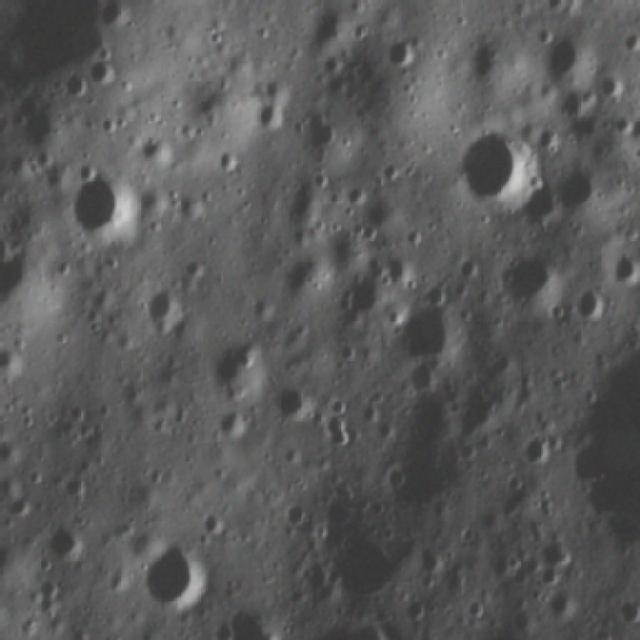crater: (454, 117, 549, 223), (62, 165, 143, 249), (134, 535, 214, 614), (392, 297, 472, 368), (487, 248, 565, 320), (206, 332, 266, 399), (451, 31, 517, 91), (540, 30, 598, 96), (547, 157, 608, 214), (328, 270, 384, 330), (137, 281, 191, 341), (34, 512, 86, 570), (375, 246, 430, 300), (294, 114, 346, 160), (382, 26, 426, 74), (511, 425, 557, 470), (272, 380, 320, 423), (248, 94, 292, 138), (571, 284, 612, 331), (85, 44, 120, 88), (57, 66, 95, 102), (609, 245, 640, 288)
